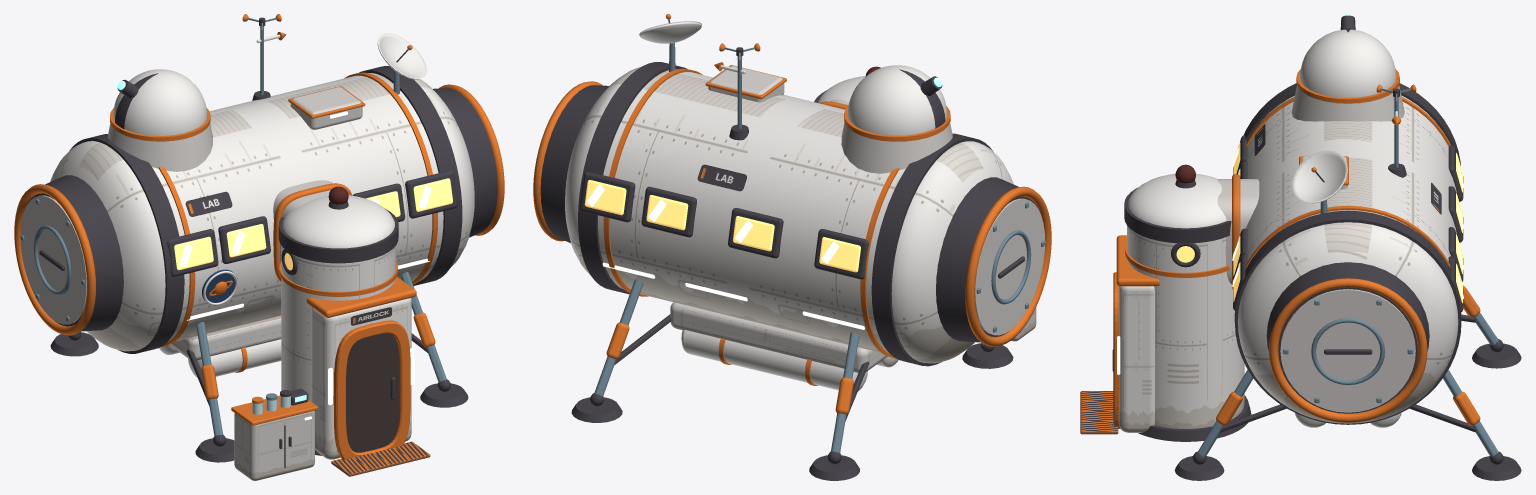
The model's file is research-base.glb.
3 renders of one model, left to right at view 1: azimuth 30°, elevation 25°; view 2: azimuth 150°, elevation 25°; view 3: azimuth 270°, elevation 25°, orthographic. The views are drawn at different scales.
Parts seen in each view (by area): view 1: hull_shell, port_collar (×2), hull_band_dark (×2), access_tower_body, hatch_door, port_hatch, door_housing, sample_cabinet, access_tower_top, observatory_dome, port_ring (×2), hatch_frame (+29 smaller); view 2: hull_shell, port_collar (×2), hull_band_dark (×2), port_hatch, equipment_bay, observatory_dome, port_ring (×2), tank, observatory_base, hull_band_orange (×2), roof_box, window_back_2_frame (+17 smaller); view 3: hull_shell, access_tower_body, port_hatch, hull_band_dark (×2), door_housing, observatory_dome, port_ring, access_tower_top, port_collar, observatory_base, dish_bowl, access_tower_band (+17 smaller).
Part boxes in pixels (x1=…): hull_shell: x1=50, y1=73, x2=474, y2=351; port_collar (×2): x1=27, y1=88, x2=497, y2=331; hull_band_dark (×2): x1=69, y1=66, x2=462, y2=353; access_tower_body: x1=281, y1=245, x2=395, y2=401; hatch_door: x1=346, y1=333, x2=399, y2=452; port_hatch: x1=20, y1=195, x2=86, y2=324; door_housing: x1=311, y1=298, x2=411, y2=459; sample_cabinet: x1=234, y1=410, x2=314, y2=480; access_tower_top: x1=282, y1=195, x2=394, y2=248; observatory_dome: x1=113, y1=69, x2=207, y2=135; port_ring (×2): x1=14, y1=84, x2=504, y2=335; hatch_frame: x1=333, y1=320, x2=410, y2=459; hull_shell: x1=565, y1=66, x2=1013, y2=363; port_collar (×2): x1=540, y1=85, x2=1038, y2=342; hull_band_dark (×2): x1=578, y1=62, x2=993, y2=366; port_hatch: x1=974, y1=198, x2=1045, y2=335; equipment_bay: x1=670, y1=302, x2=887, y2=372; observatory_dome: x1=847, y1=65, x2=946, y2=135; port_ring (×2): x1=533, y1=81, x2=1051, y2=346; tank: x1=684, y1=330, x2=844, y2=390; observatory_base: x1=841, y1=122, x2=952, y2=173; hull_band_orange (×2): x1=603, y1=68, x2=899, y2=358; roof_box: x1=708, y1=66, x2=784, y2=102; window_back_2_frame: x1=641, y1=186, x2=696, y2=237; hull_shell: x1=1238, y1=95, x2=1458, y2=423; access_tower_body: x1=1127, y1=225, x2=1244, y2=428; port_hatch: x1=1280, y1=289, x2=1415, y2=412; hull_band_dark (×2): x1=1234, y1=83, x2=1461, y2=424; door_housing: x1=1118, y1=286, x2=1154, y2=432; observatory_dome: x1=1300, y1=29, x2=1396, y2=97; port_ring: x1=1268, y1=278, x2=1427, y2=422; access_tower_top: x1=1127, y1=173, x2=1226, y2=228; port_collar: x1=1266, y1=262, x2=1429, y2=413; observatory_base: x1=1291, y1=85, x2=1404, y2=121; dish_bowl: x1=1291, y1=150, x2=1347, y2=203; access_tower_band: x1=1124, y1=187, x2=1231, y2=243.
Size of the model in its own units: 7.16 by 5.5 by 6.39.
Materials: 21 (5 with a texture image).
